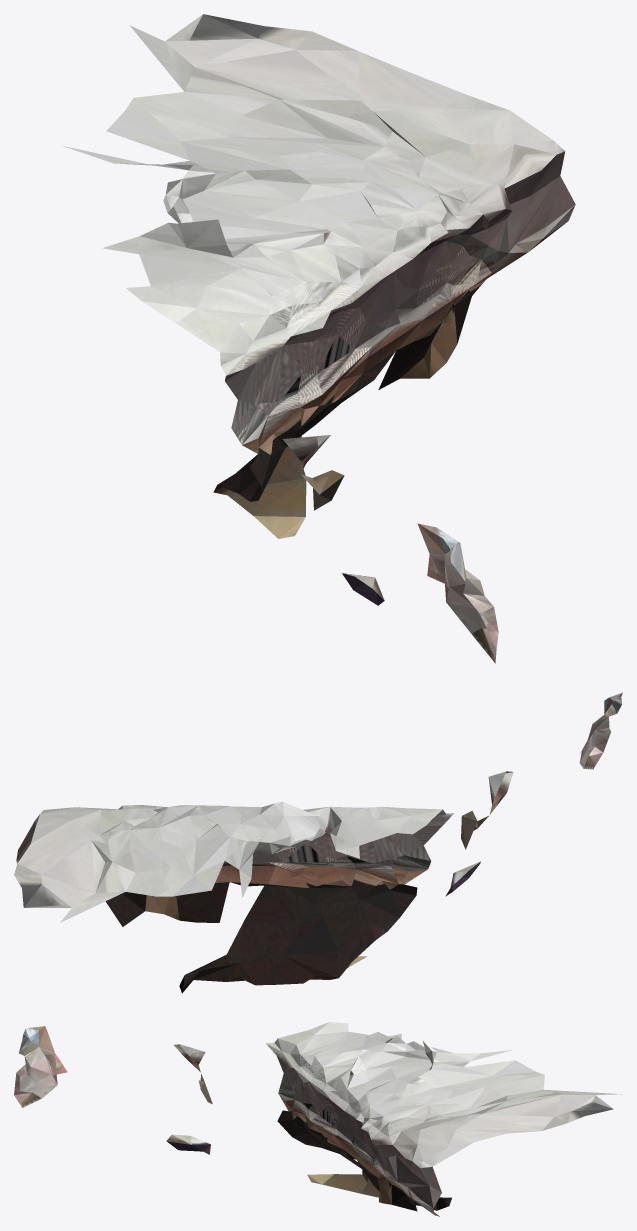
The picture shows the model from 3 angles, top to bottom: view 1: azimuth 30°, elevation 25°; view 2: azimuth 150°, elevation 25°; view 3: azimuth 270°, elevation 25°; orthographic projection. The views are drawn at different scales.
Parts seen in each view (by area): view 1: Left_Landscape_LO3; view 2: Left_Landscape_LO3; view 3: Left_Landscape_LO3.
Boxes of the visible parts, x1,y1,x2,y2 form: Left_Landscape_LO3: [63, 14, 575, 663]; Left_Landscape_LO3: [14, 692, 622, 993]; Left_Landscape_LO3: [14, 1022, 622, 1216].
Size of the model in its own units: 10456 by 5150 by 20190.
1 material, 1 textured.
